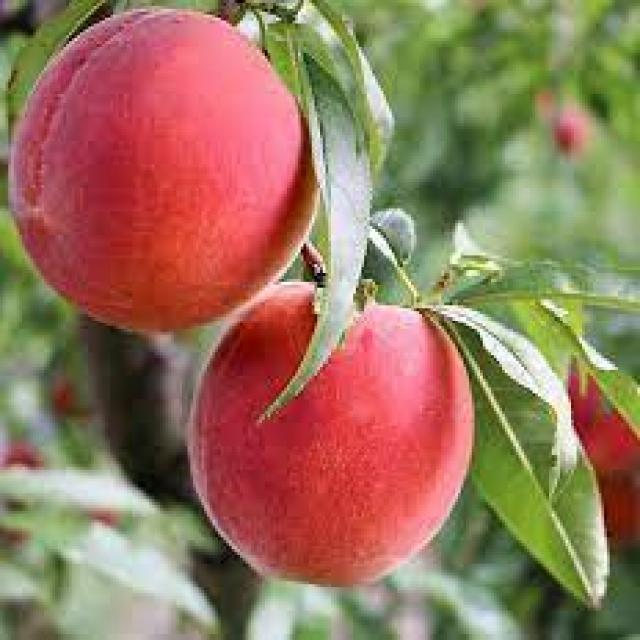peach: (5, 3, 312, 338), (185, 279, 480, 593)
